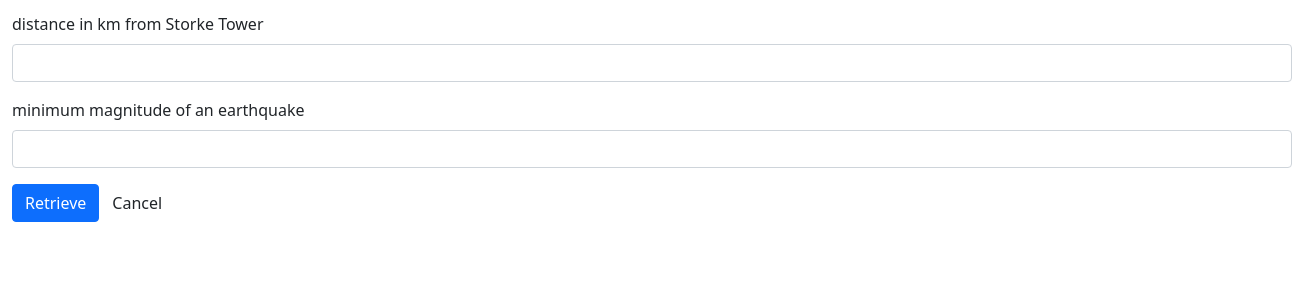
Test: EarthquakeForm tests › Correct Error messsages on missing input
Click the button with test id "EarthquakeForm-Retrieve".
click(56, 203)  # box 12,184 -> 99,222
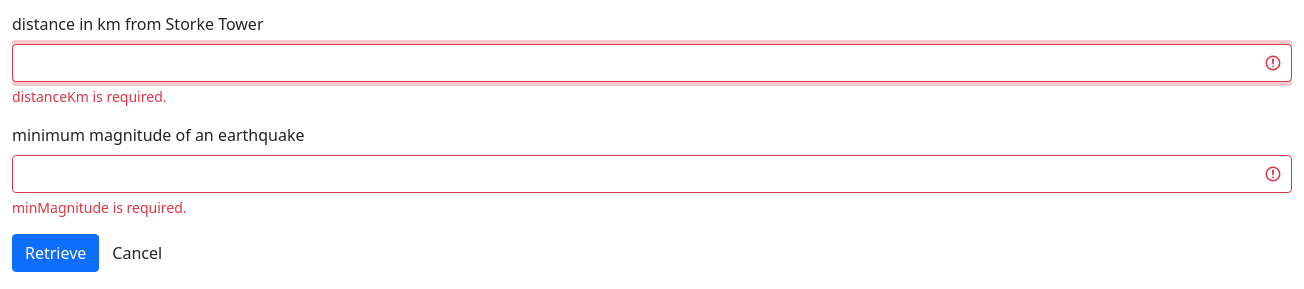
expect the text "distanceKm is required." is shown: met, box 12,87 -> 166,106
expect the text "minMagnitude is required." is shown: met, box 12,198 -> 187,217
